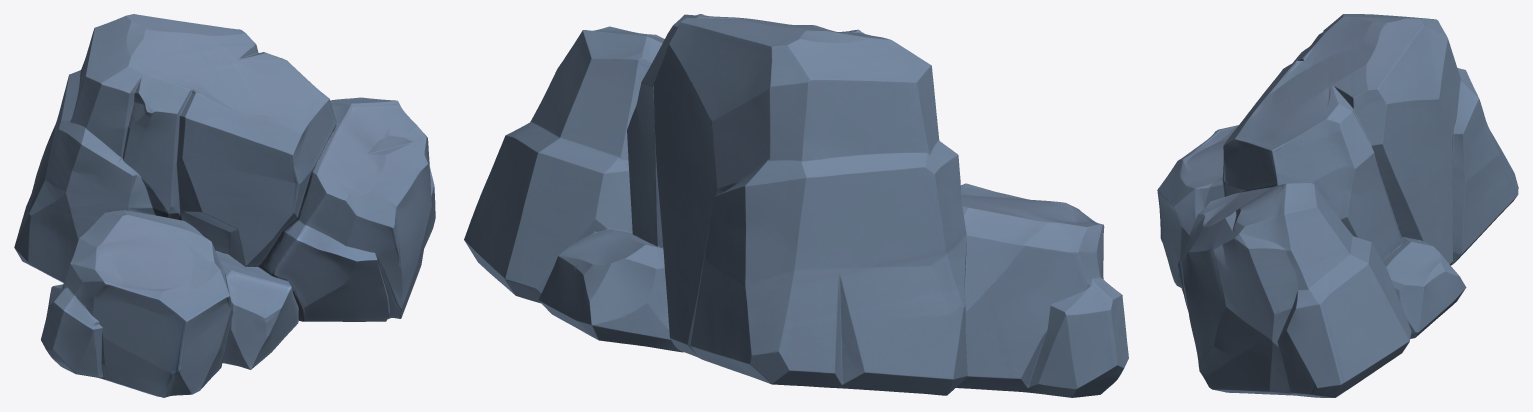
Rendered from kayalik.glb.
3 renders of one model, left to right at view 1: azimuth 30°, elevation 25°; view 2: azimuth 150°, elevation 25°; view 3: azimuth 270°, elevation 25°, orthographic. The views are drawn at different scales.
Parts seen in each view (by area): view 1: tripo_node_5a866dce-4deb-4285-bb0c-89f5944b5062; view 2: tripo_node_5a866dce-4deb-4285-bb0c-89f5944b5062; view 3: tripo_node_5a866dce-4deb-4285-bb0c-89f5944b5062.
Boxes of the visible parts, bbox=[...] form: tripo_node_5a866dce-4deb-4285-bb0c-89f5944b5062: bbox=[14, 14, 435, 397]; tripo_node_5a866dce-4deb-4285-bb0c-89f5944b5062: bbox=[464, 14, 1128, 397]; tripo_node_5a866dce-4deb-4285-bb0c-89f5944b5062: bbox=[1157, 14, 1518, 397].
Size of the model in its own units: 0.9799 by 0.6365 by 0.7076.
Materials: 1 (1 with a texture image).
